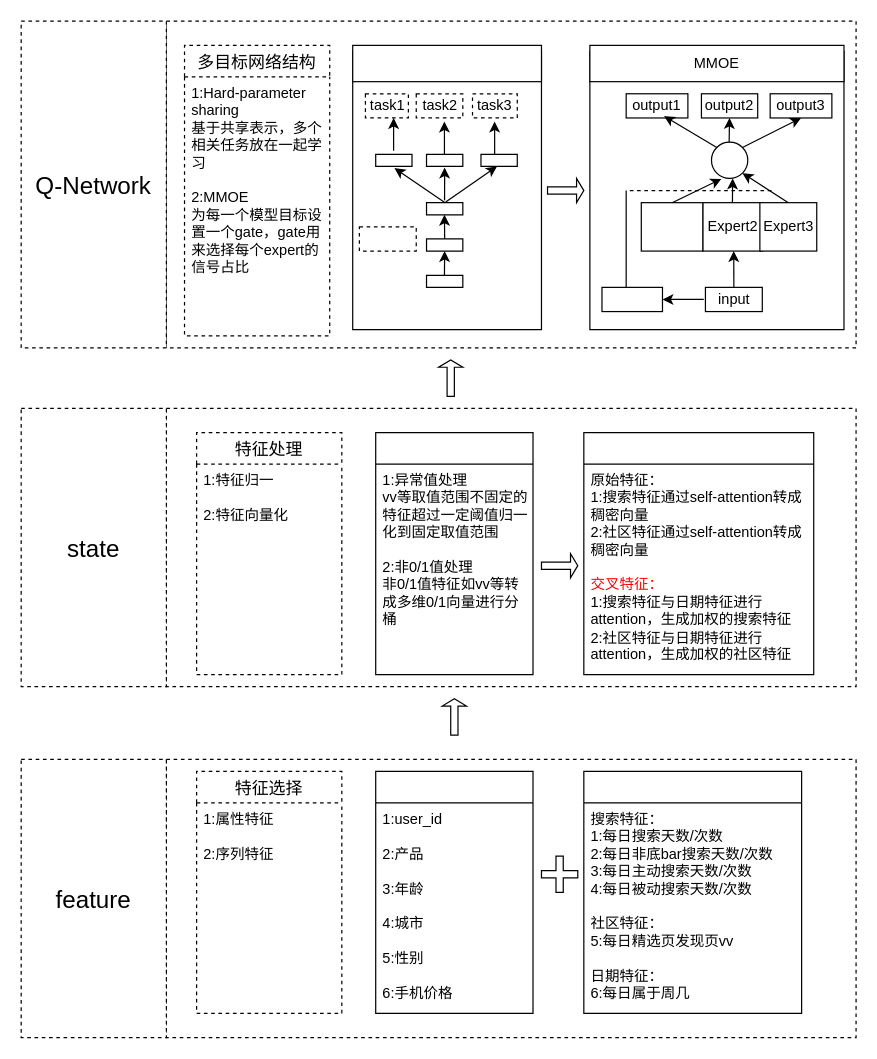
Some shapes in this 877 by 1059 pixel diagram are drawn without their labels. Each missing label, with the box of its shape:
7/30d序列特征: (583, 770, 802, 1013)
Expert1: (640, 201, 703, 251)
gate: (601, 286, 662, 312)
Hard-parameter sharing: (352, 44, 541, 82)
shared: (358, 226, 416, 251)
属性特征: (374, 770, 533, 1013)
特征向量化: (583, 431, 814, 675)
特征归一: (374, 431, 533, 675)
